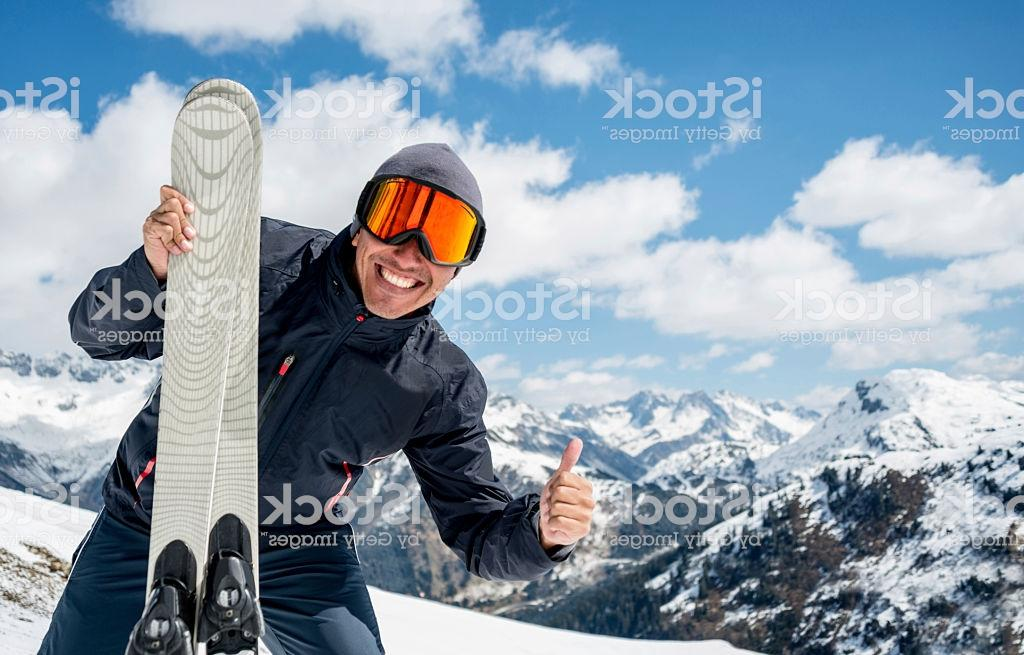thumbsup: (537, 437, 599, 546)
